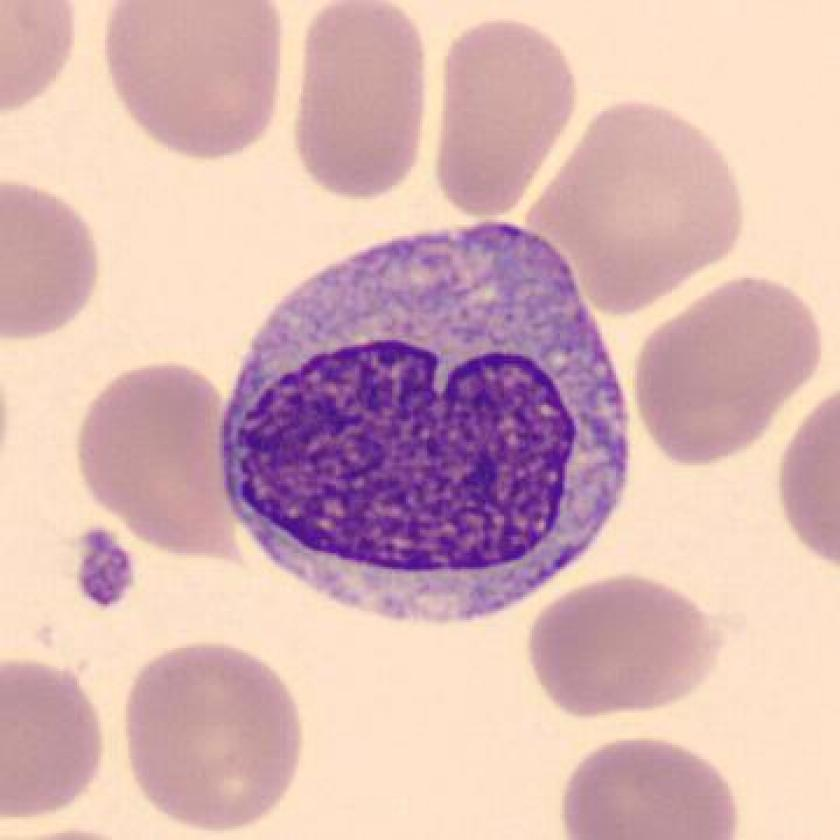monocyte: (202, 191, 657, 644)
